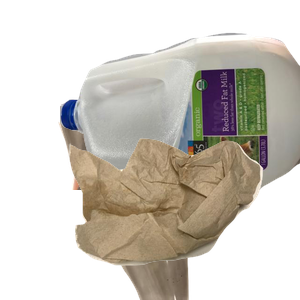glass: (56, 120, 241, 300)
metal: (69, 93, 265, 273)
plastic: (60, 30, 300, 210)
trash: (67, 136, 300, 300)
